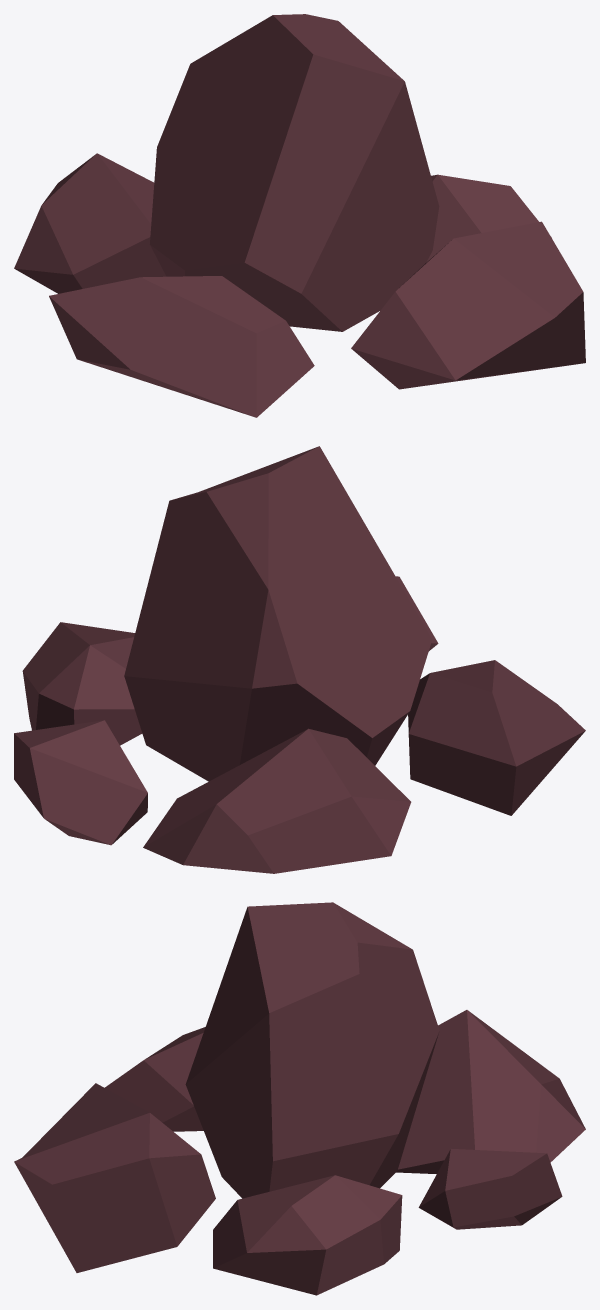
Rendered from resources-iron-ore.glb.
The picture shows the model from 3 angles, top to bottom: view 1: azimuth 30°, elevation 25°; view 2: azimuth 150°, elevation 25°; view 3: azimuth 270°, elevation 25°; orthographic projection. The views are drawn at different scales.
Visible parts, largest first — view 1: iron-ore; view 2: iron-ore; view 3: iron-ore.
Boxes of the visible parts, bbox=[...] form: iron-ore: bbox=[14, 14, 585, 417]; iron-ore: bbox=[14, 446, 585, 873]; iron-ore: bbox=[14, 902, 585, 1295].
Bounding box in the file's own units: 0.9648 × 0.5988 × 1.07.
